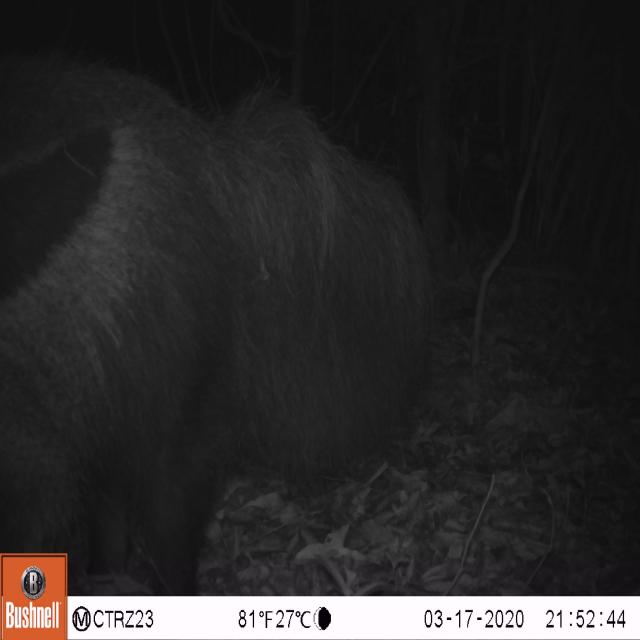Giant Anteater: (0, 42, 441, 594)
